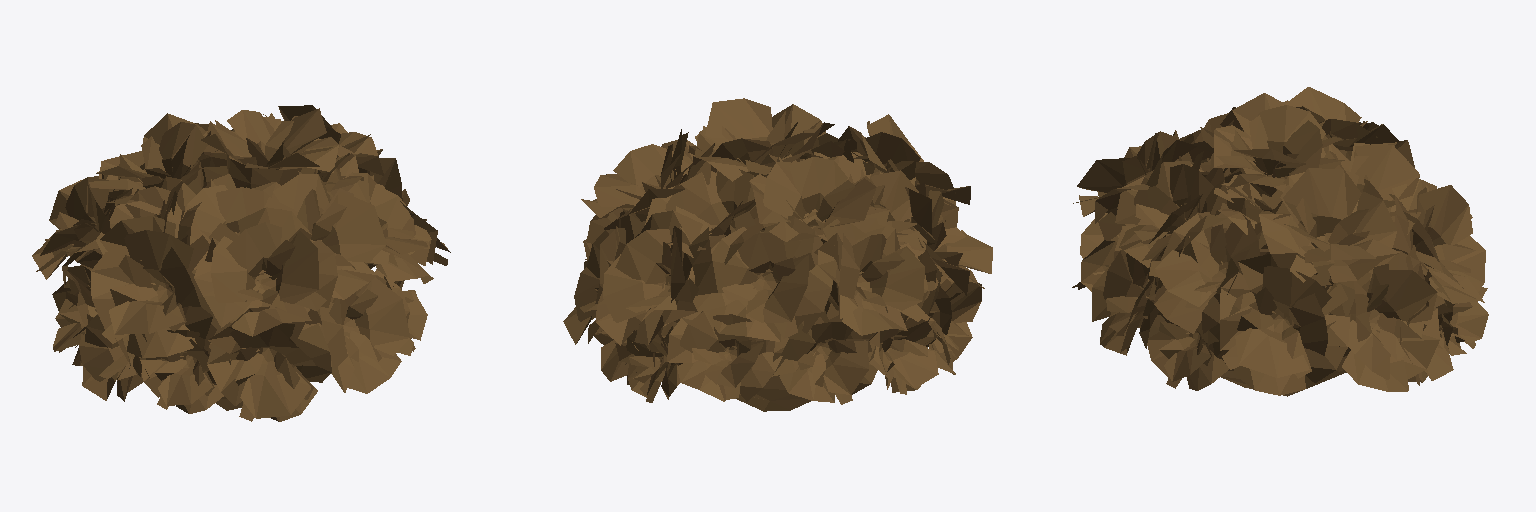
Rendered from Object_EleganceCoral1.obj.
3 views of the same model, side by side, from view 1: azimuth 30°, elevation 25°; view 2: azimuth 150°, elevation 25°; view 3: azimuth 270°, elevation 25° (orthographic).
Parts seen in each view (by area): view 1: Elegance_Coral1; view 2: Elegance_Coral1; view 3: Elegance_Coral1.
Boxes of the visible parts, box(x1,y1,x2,y2) form: Elegance_Coral1: box(32, 105, 450, 421); Elegance_Coral1: box(563, 98, 992, 411); Elegance_Coral1: box(1072, 87, 1488, 396).
Bounding box in the file's own units: 2.17 × 1.55 × 2.11.